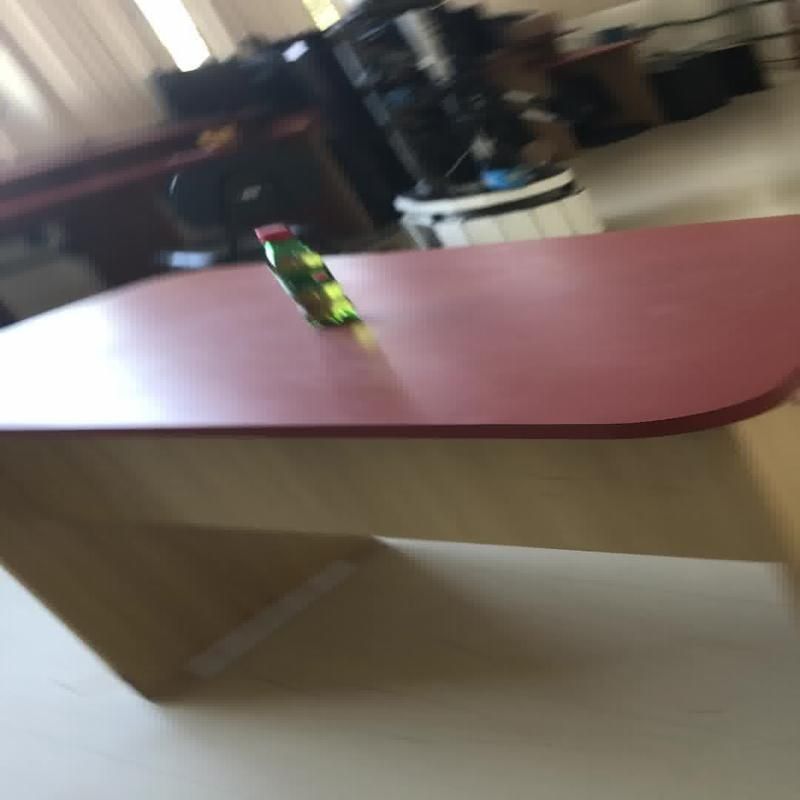guarana: (251, 220, 361, 327)
